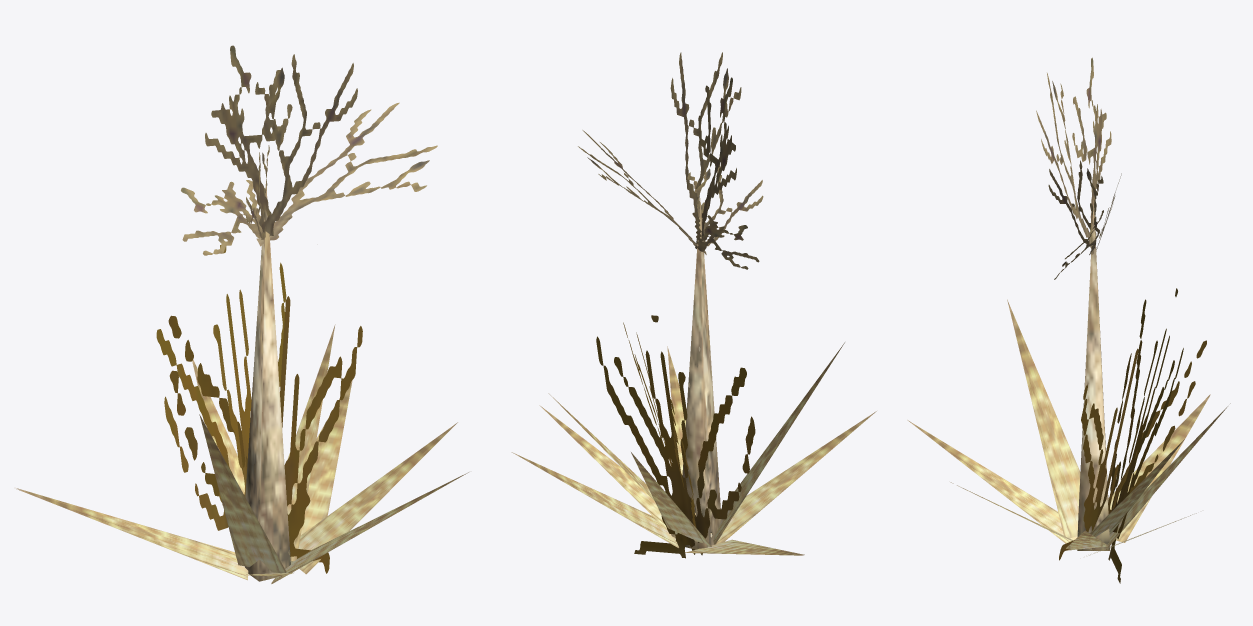
File: succ_tatt_jinapur_bush_l3.fbx
The picture shows the model from 3 angles, left to right: view 1: azimuth 30°, elevation 25°; view 2: azimuth 150°, elevation 25°; view 3: azimuth 270°, elevation 25°; orthographic projection. The views are drawn at different scales.
Visible parts, largest first — view 1: mesh_node; view 2: mesh_node; view 3: mesh_node.
Boxes of the visible parts, x1,y1,x2,y2 form: mesh_node: [16, 45, 468, 583]; mesh_node: [511, 52, 876, 558]; mesh_node: [907, 57, 1230, 583].
Bounding box in the file's own units: 1.86 × 2.78 × 1.62.
Materials: 1 (1 with a texture image).
